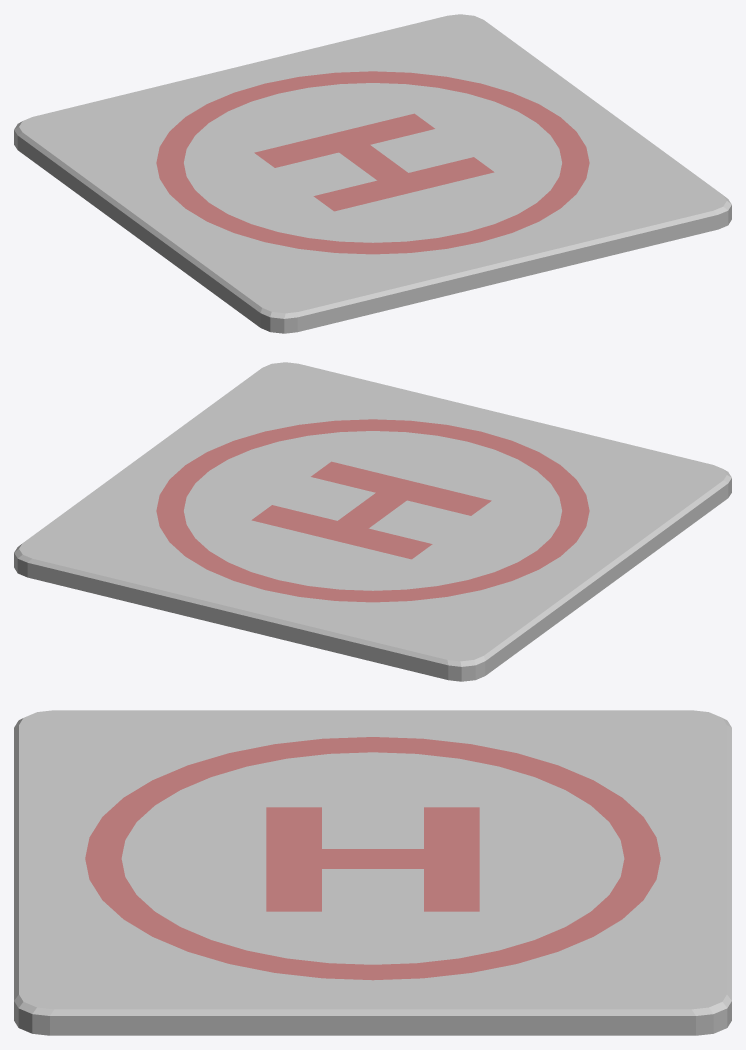
3 renders of one model, top to bottom at view 1: azimuth 30°, elevation 25°; view 2: azimuth 150°, elevation 25°; view 3: azimuth 270°, elevation 25°, orthographic. The views are drawn at different scales.
Visible parts, largest first — view 1: H; view 2: H; view 3: H.
Part boxes in pixels (bbox=[...]): H: bbox=[14, 14, 731, 333]; H: bbox=[14, 362, 731, 681]; H: bbox=[14, 710, 731, 1035].
Size of the model in its own units: 200 by 7.84 by 200.
